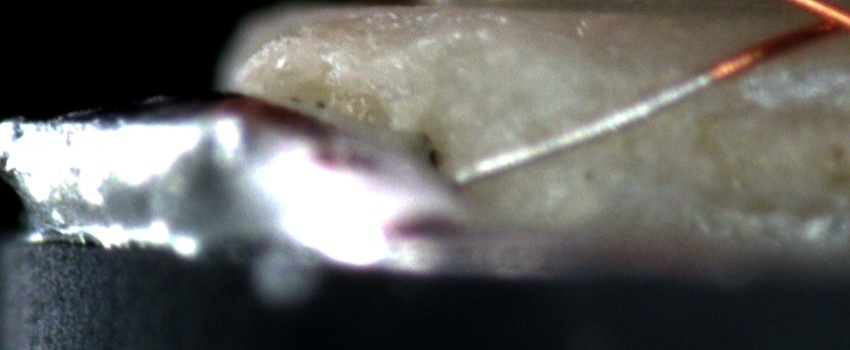DL: (554, 55, 850, 94)
TS: (455, 69, 714, 184)
